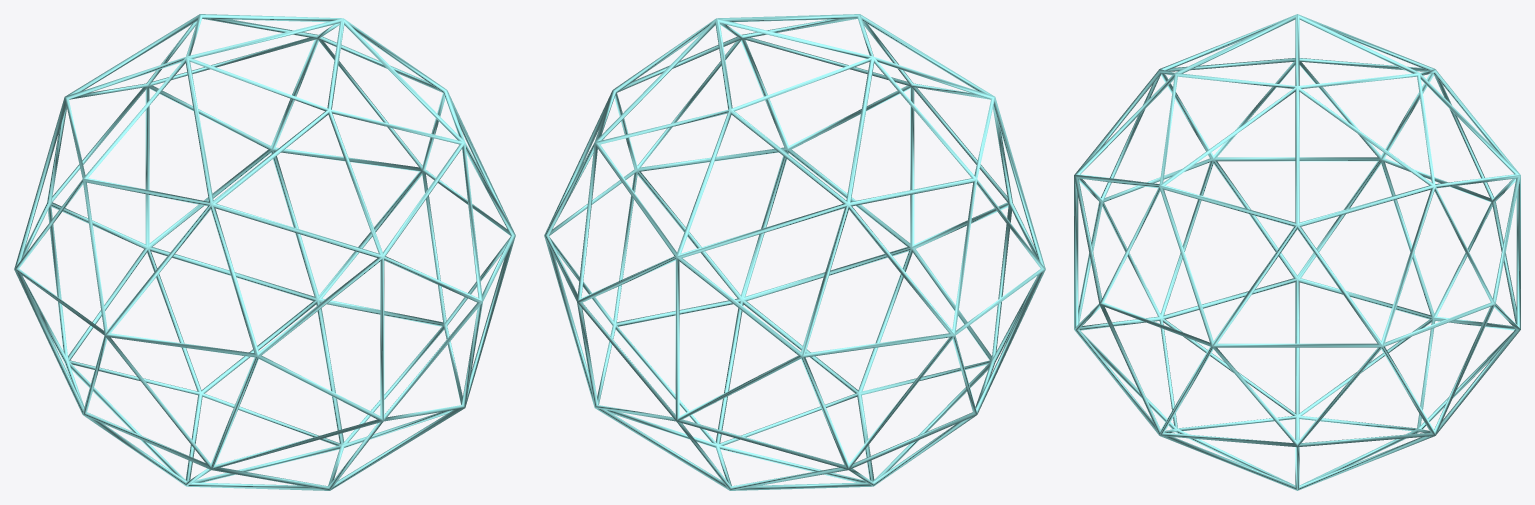
The model's file is PentakisDodecahedron2.glb.
3 views of the same model, side by side, from view 1: azimuth 30°, elevation 25°; view 2: azimuth 150°, elevation 25°; view 3: azimuth 270°, elevation 25° (orthographic). The views are drawn at different scales.
Parts seen in each view (by area): view 1: PentakisDodecahedron; view 2: PentakisDodecahedron; view 3: PentakisDodecahedron.
Part boxes in pixels (x1,y1,x2,y2): PentakisDodecahedron: (14, 14, 515, 490); PentakisDodecahedron: (544, 14, 1045, 490); PentakisDodecahedron: (1074, 14, 1520, 490).
Size of the model in its own units: 4.9 by 4.9 by 4.9.
